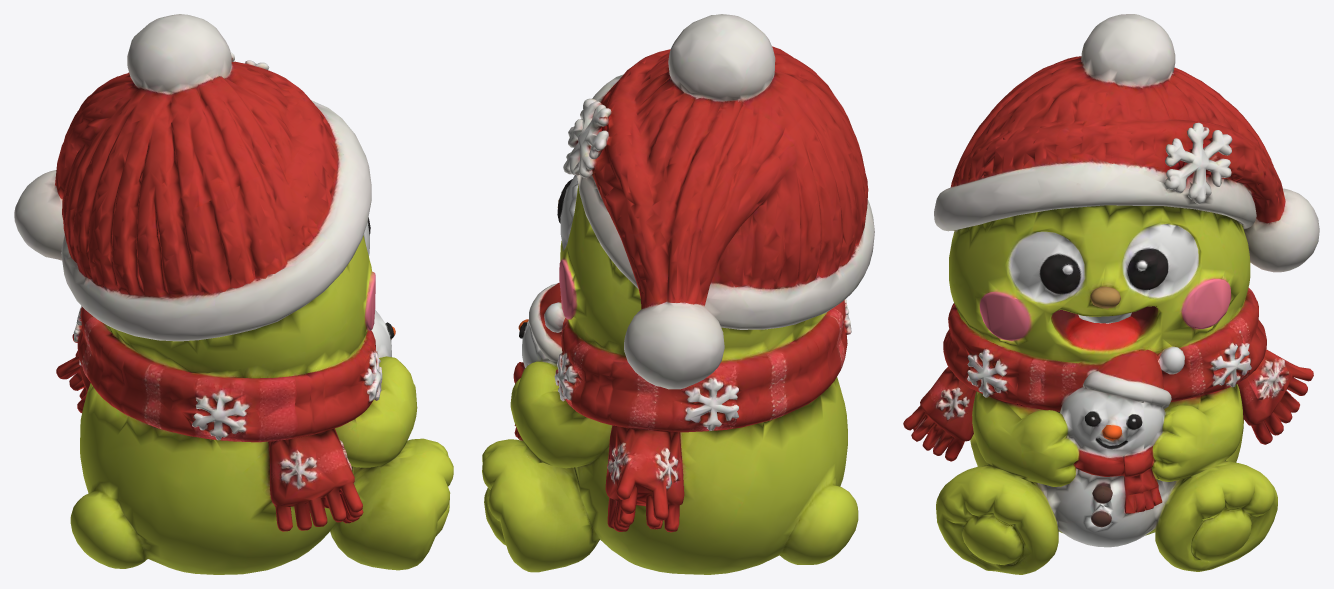
The model's file is santa-plush.glb.
3 renders of one model, left to right at view 1: azimuth 30°, elevation 25°; view 2: azimuth 150°, elevation 25°; view 3: azimuth 270°, elevation 25°, orthographic. The views are drawn at different scales.
Parts seen in each view (by area): view 1: tripo_node_b2aee556-fead-4151-94c5-504902d719a9; view 2: tripo_node_b2aee556-fead-4151-94c5-504902d719a9; view 3: tripo_node_b2aee556-fead-4151-94c5-504902d719a9.
Boxes of the visible parts, x1,y1,x2,y2 form: tripo_node_b2aee556-fead-4151-94c5-504902d719a9: (14,14,453,574); tripo_node_b2aee556-fead-4151-94c5-504902d719a9: (482,14,874,574); tripo_node_b2aee556-fead-4151-94c5-504902d719a9: (903,14,1319,574).
Bounding box in the file's own units: 0.6296 × 0.9995 × 0.7754.
1 material, 1 textured.
